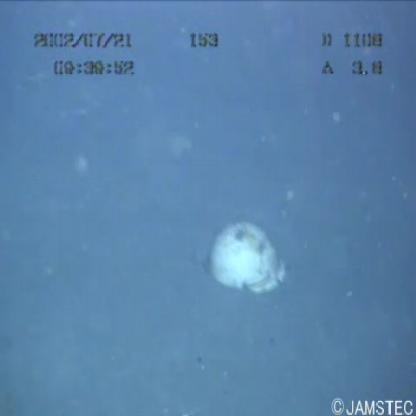Rác: (187, 216, 306, 297)
